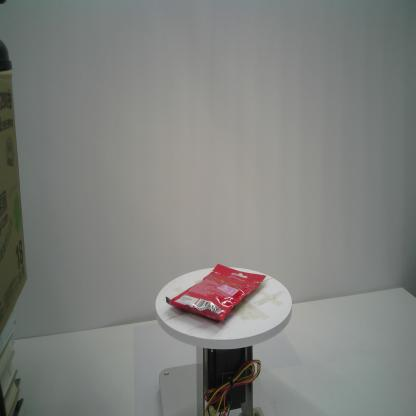Candy: (165, 263, 266, 321)
